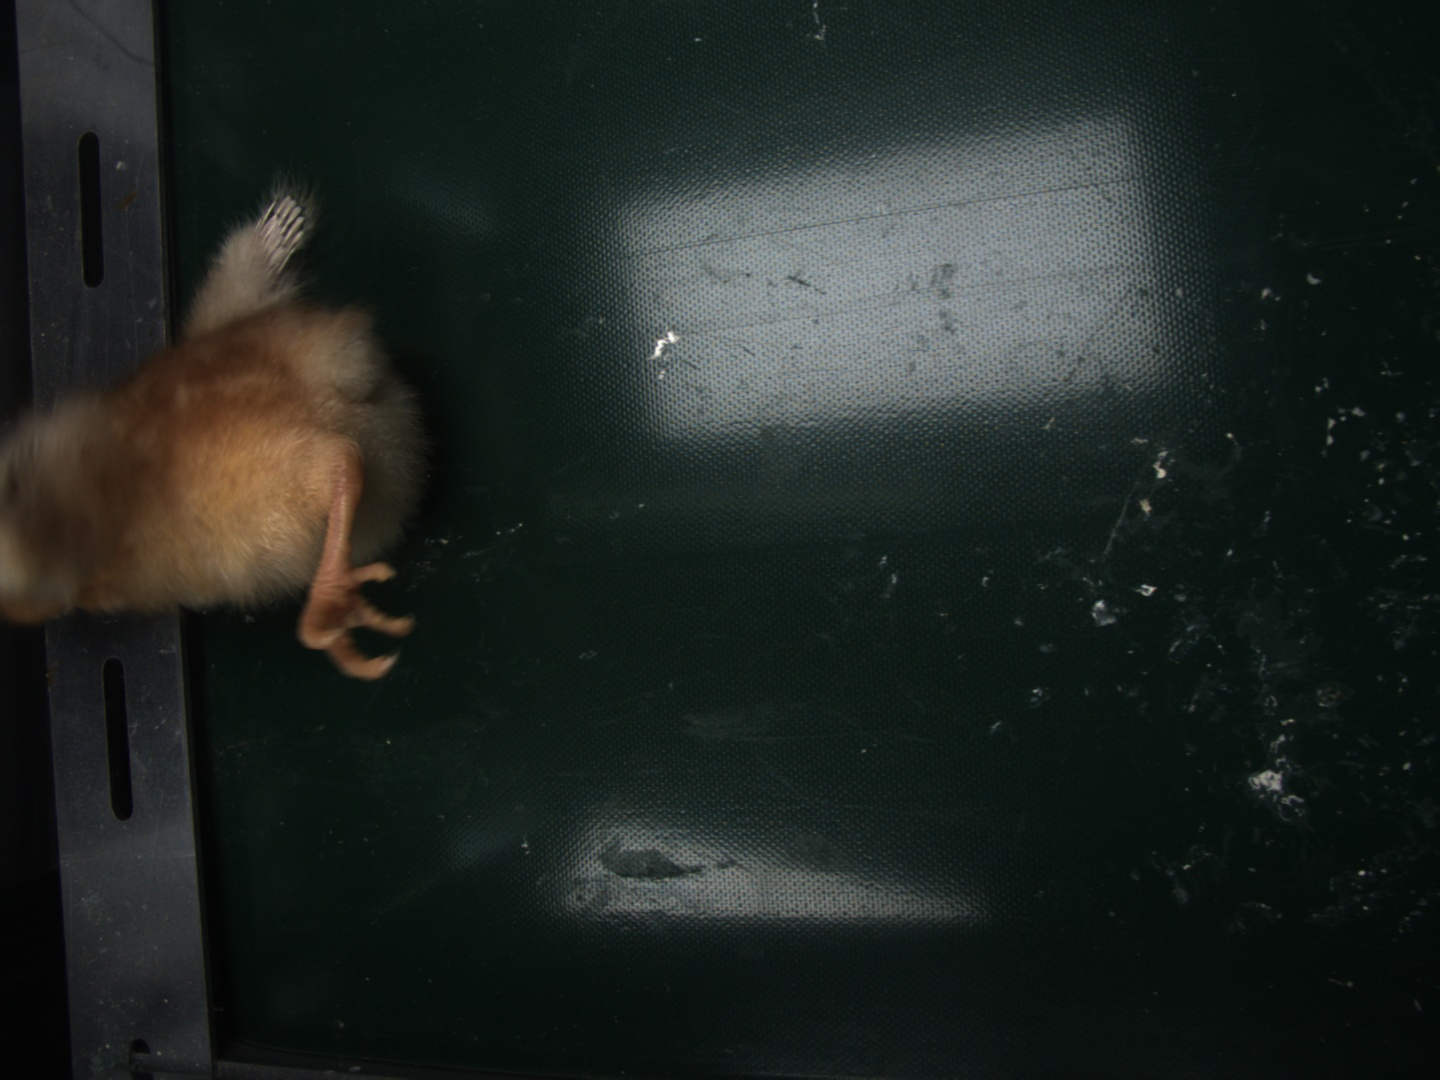female: (252, 193, 308, 270)
